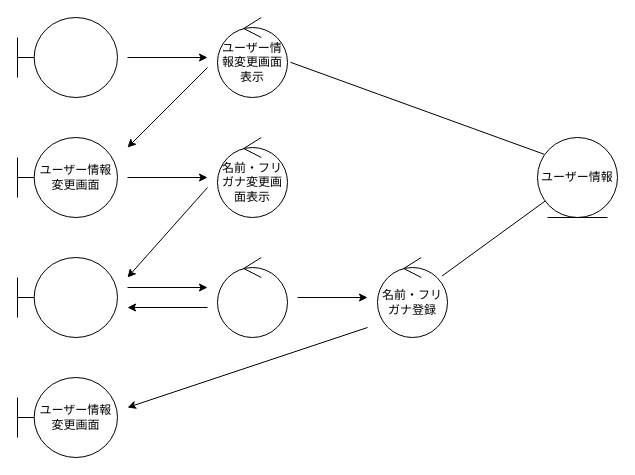
Some shapes in this 635 by 475 pixel diagram are drawn without their labels. Each missing label, with the centre of its shape:
バリデーション: the point at 252,297
名前・フリガナ変更画面: the point at 67,297
商品検索画面: the point at 67,57
